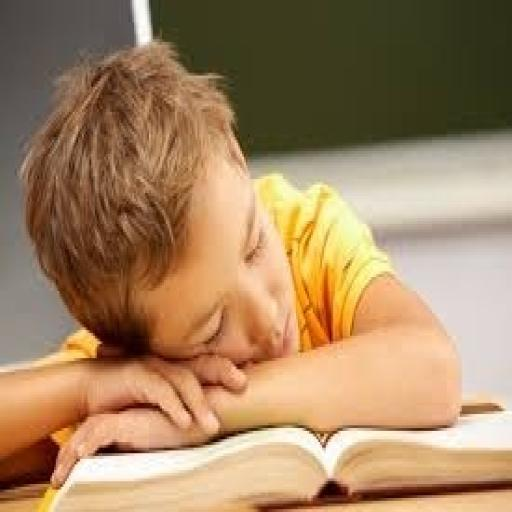sleeping: (0, 36, 464, 490)
